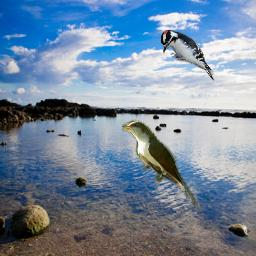Cuckoo: (122, 119, 200, 209)
Woodpecker: (160, 29, 215, 82)
